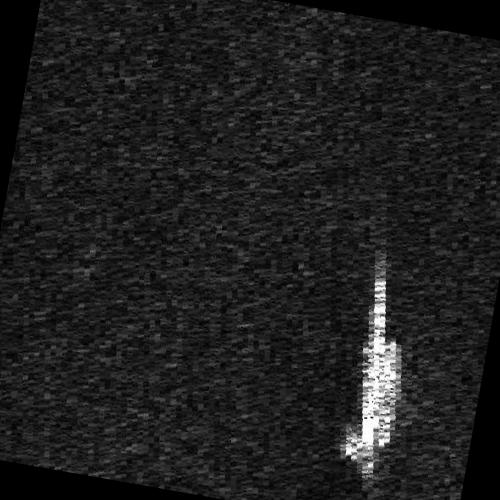ship: (341, 264, 403, 481)
